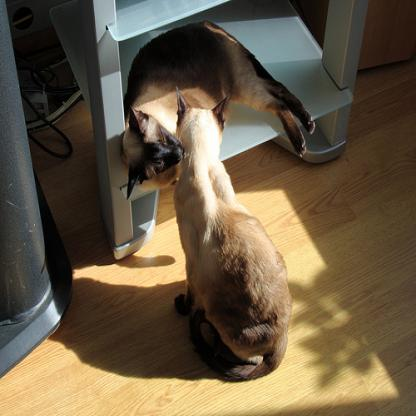cat: (172, 92, 293, 384), (120, 19, 313, 196)
